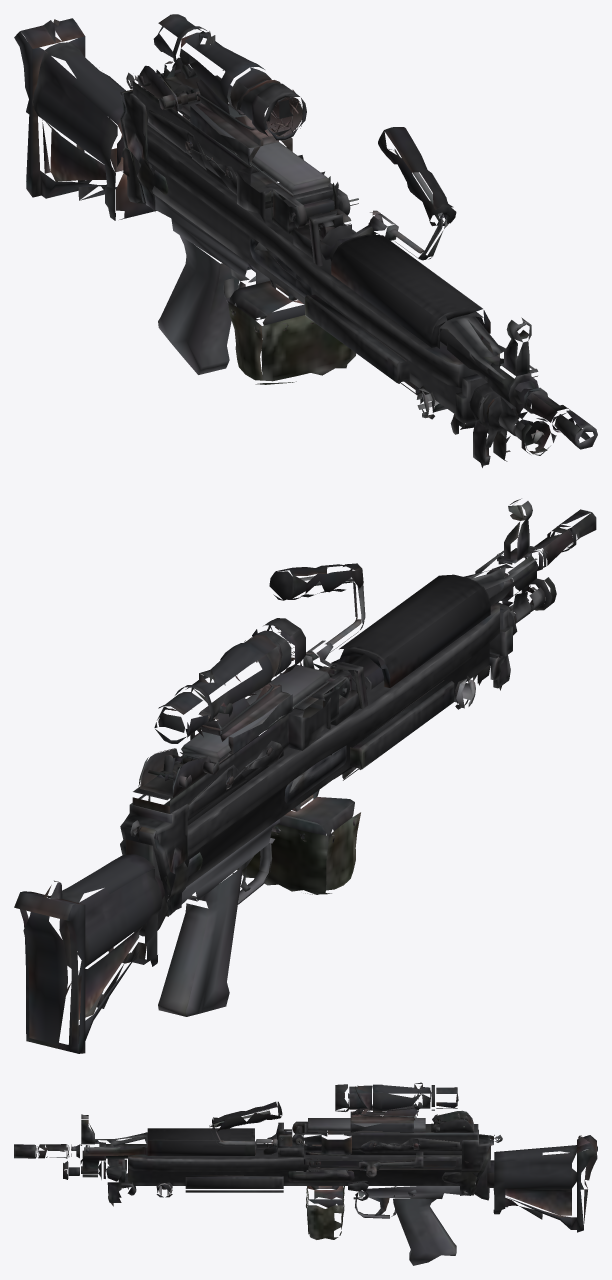
The picture shows the model from 3 angles, top to bottom: view 1: azimuth 30°, elevation 25°; view 2: azimuth 150°, elevation 25°; view 3: azimuth 270°, elevation 25°; orthographic projection. The views are drawn at different scales.
Parts seen in each view (by area): view 1: merged; view 2: merged; view 3: merged.
Boxes of the visible parts, box(x1,y1,x2,y2) form: merged: box(14, 14, 597, 467); merged: box(14, 498, 596, 1053); merged: box(14, 1082, 597, 1265).
Size of the model in its own units: 0.1527 by 0.4102 by 1.22.
Materials: 1 (1 with a texture image).
